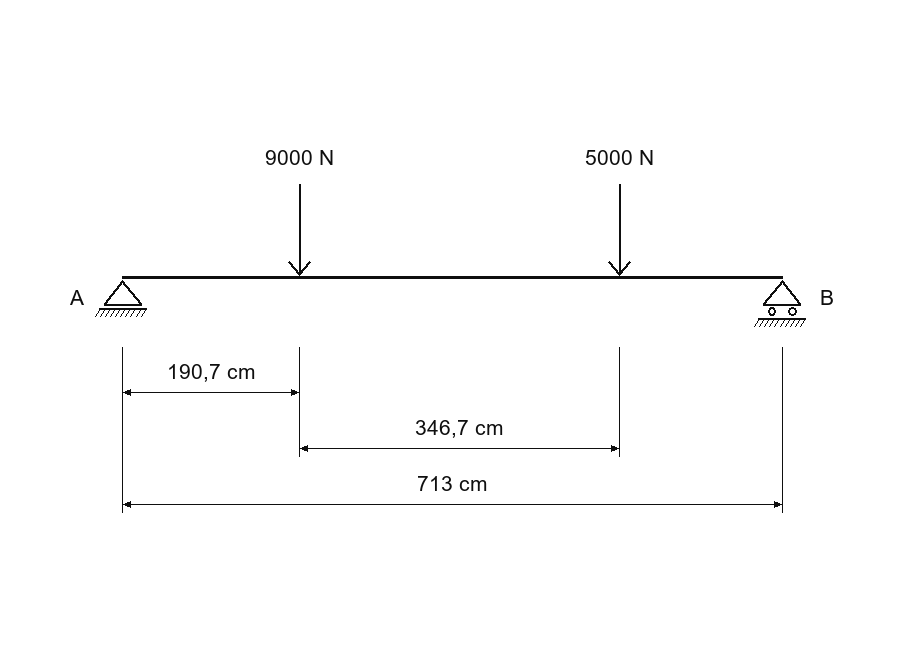pin_support: (95, 280, 147, 317)
point_load: (288, 184, 311, 276), (608, 184, 631, 276)
roller_support: (754, 280, 806, 327)
